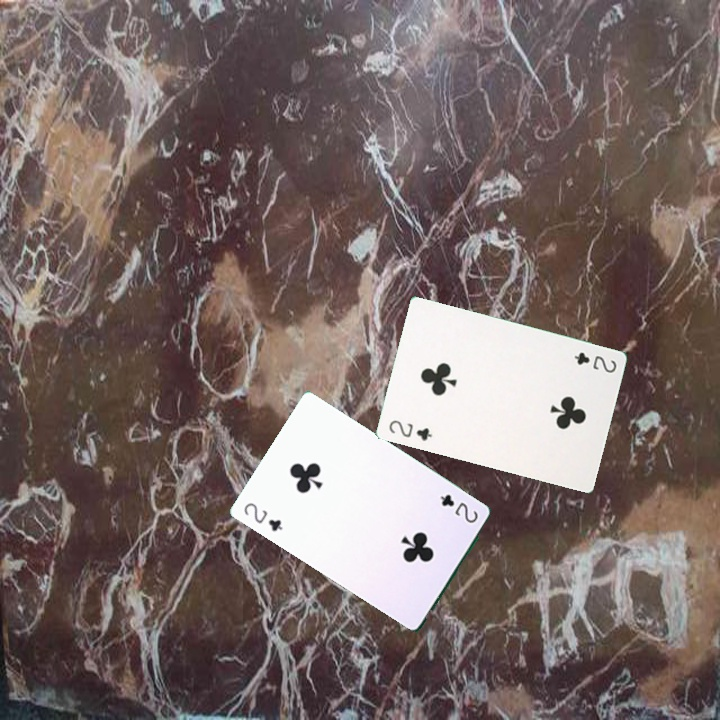2c: (240, 498, 285, 534), (436, 490, 481, 526), (385, 416, 435, 444), (570, 348, 619, 376)
